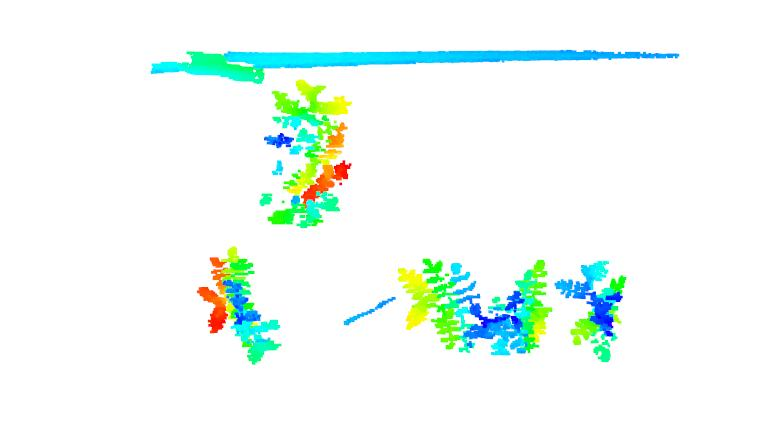chickpea: (259, 77, 348, 230), (191, 241, 281, 368), (398, 255, 488, 357), (556, 258, 628, 368), (487, 257, 552, 358)
